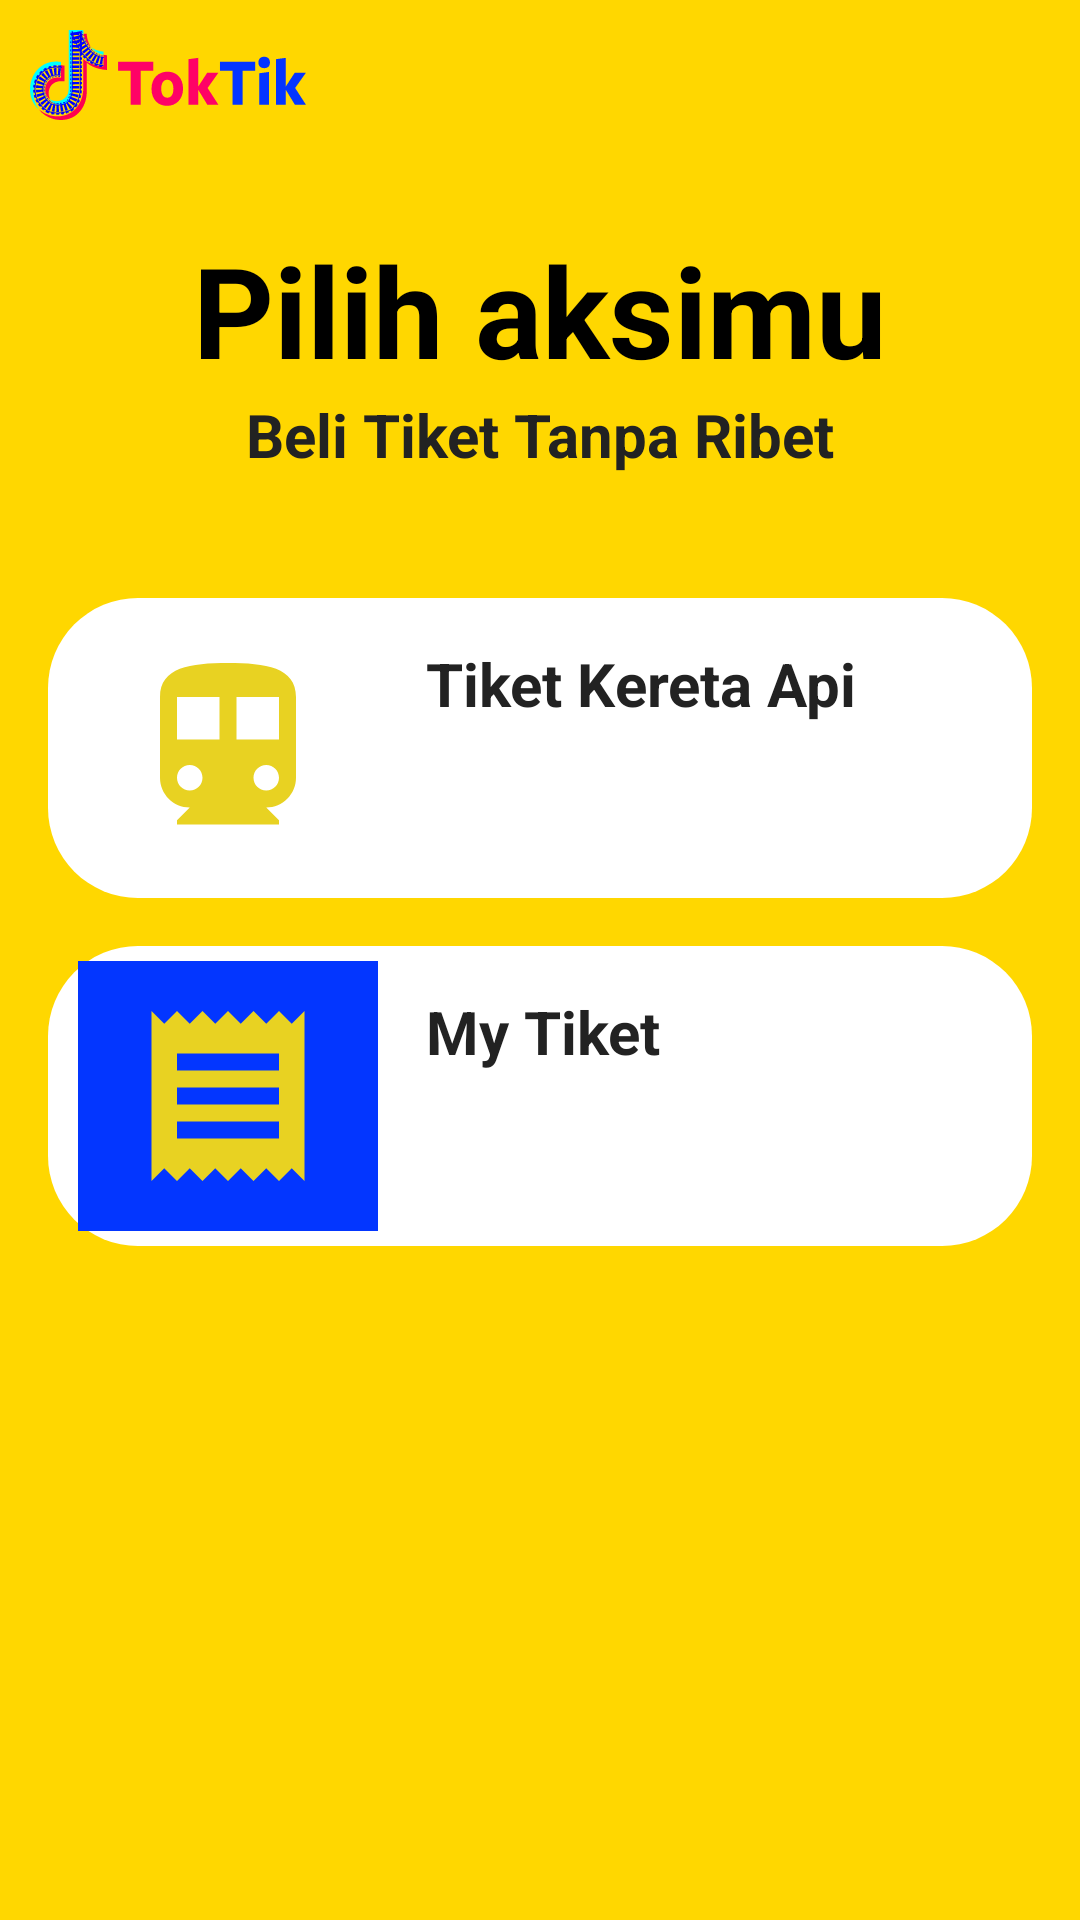

Icons on this 1080px x 1920px Android screen, each with its box as bbox(x1, y1, x2, y2):
directions subway: bbox(160, 663, 296, 825)
receipt: bbox(78, 961, 378, 1231)
